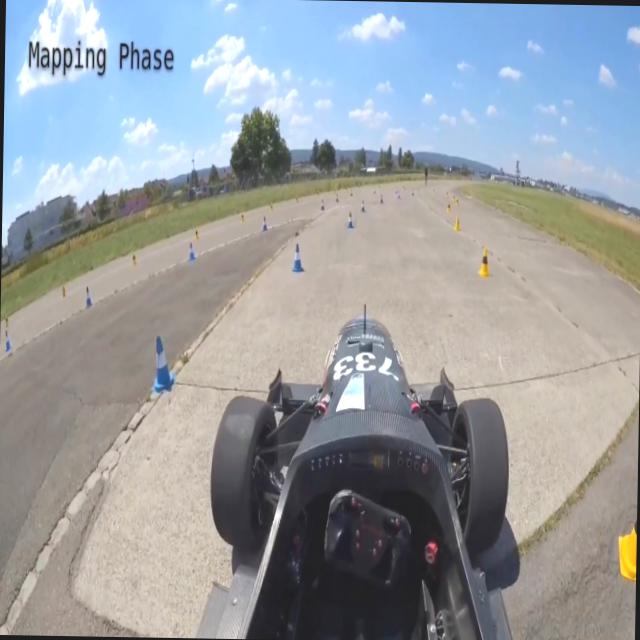blue_cone: (150, 332, 176, 394), (290, 242, 305, 272), (85, 284, 93, 308), (187, 241, 196, 262), (4, 328, 11, 352), (347, 210, 354, 228), (261, 215, 267, 231), (360, 198, 365, 212), (320, 197, 324, 211)
yellow_cone: (616, 464, 638, 584), (478, 245, 490, 278), (454, 216, 461, 231), (446, 200, 451, 214)
